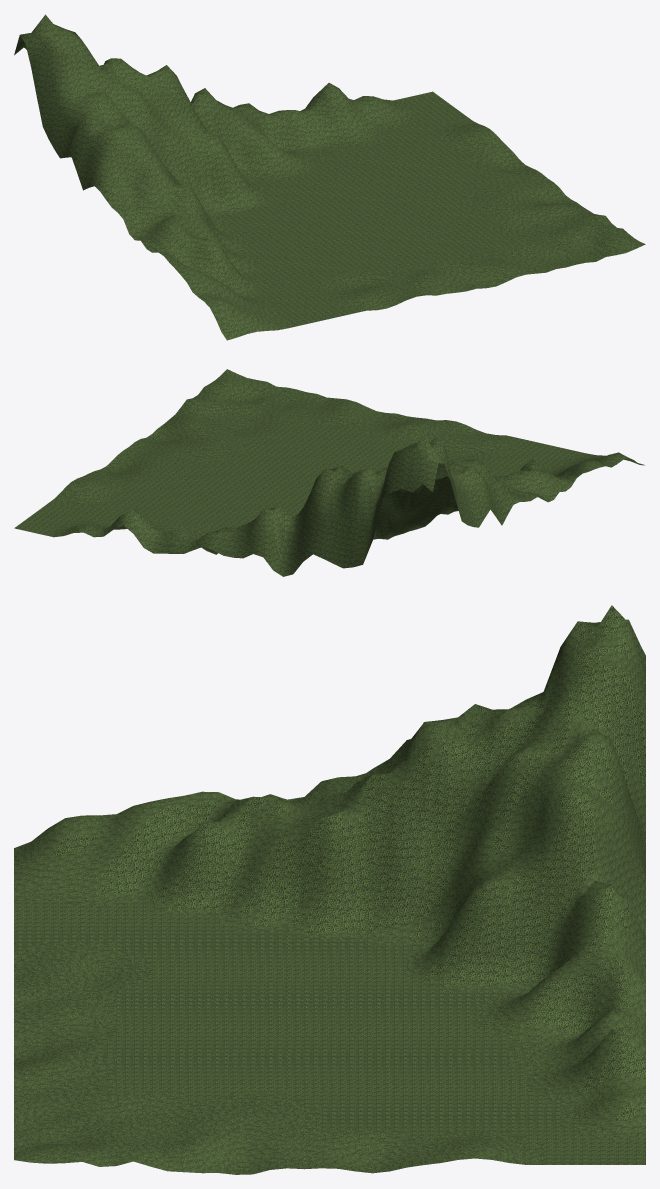
The model's file is terrain6.dae.
3 views of the same model, one above another, from view 1: azimuth 30°, elevation 25°; view 2: azimuth 150°, elevation 25°; view 3: azimuth 270°, elevation 25° (orthographic). The views are drawn at different scales.
Parts seen in each view (by area): view 1: SketchUp; view 2: SketchUp; view 3: SketchUp.
Boxes of the visible parts, <box> form: SketchUp: <box>14,14,645,340</box>; SketchUp: <box>14,369,644,576</box>; SketchUp: <box>14,605,645,1174</box>.
Bounding box in the file's own units: 126 × 111 × 54.72.
Materials: 1 (1 with a texture image).
